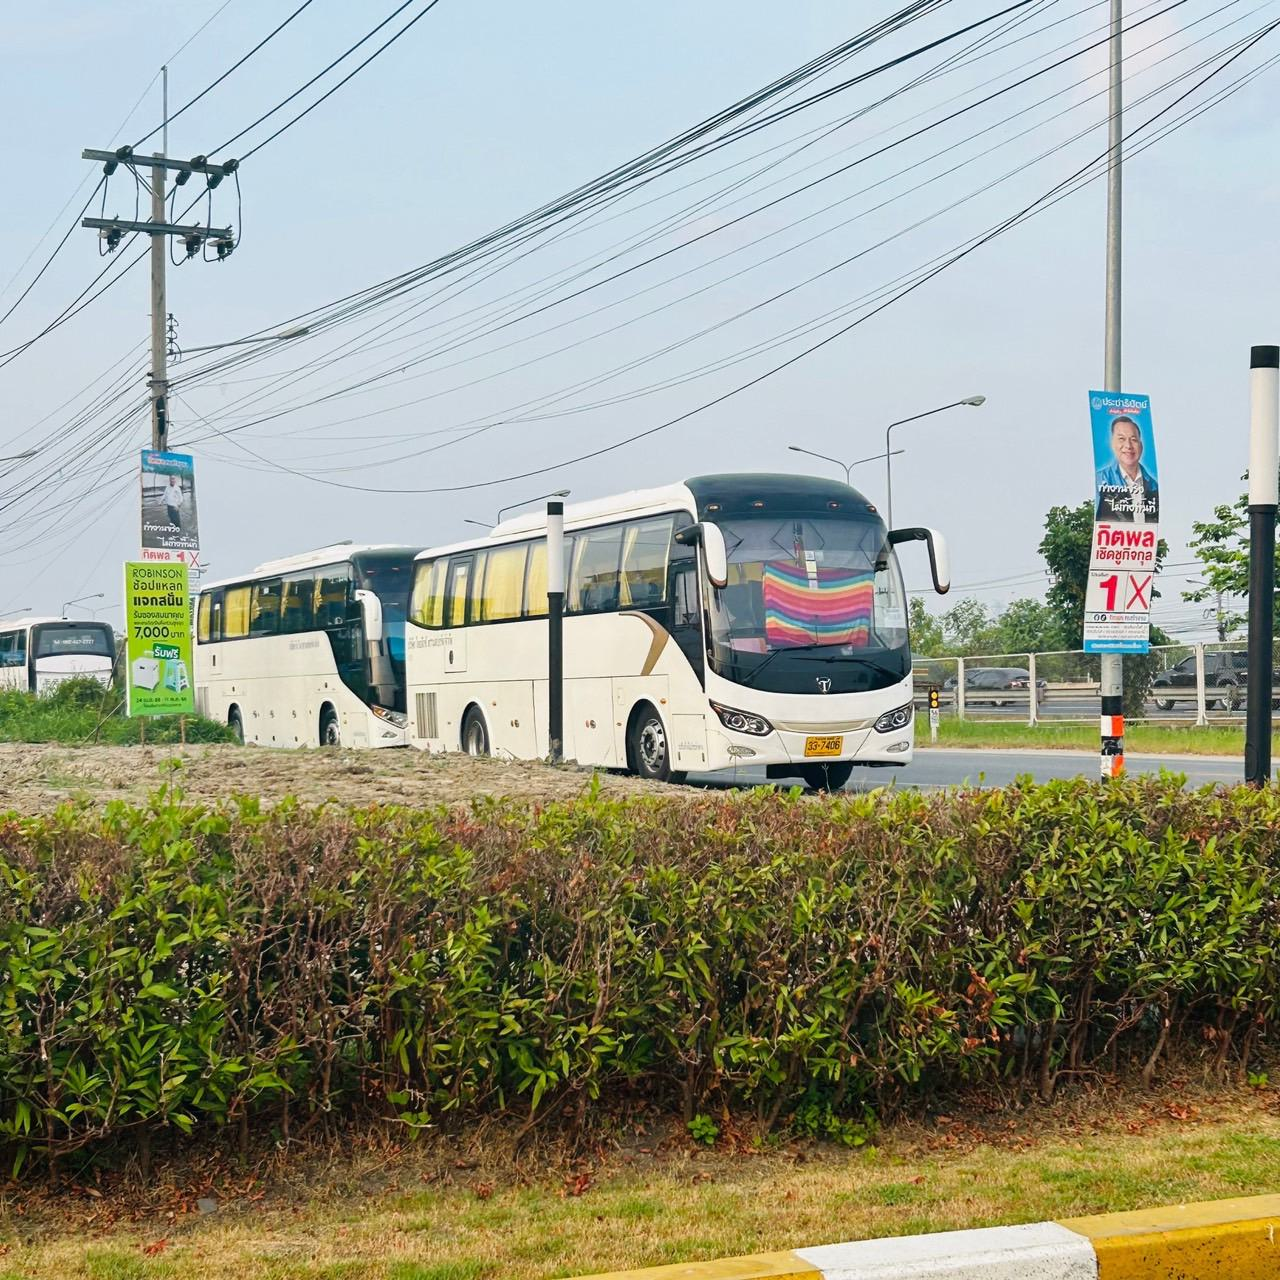Banner: (1075, 389, 1153, 653), (137, 452, 200, 577)
